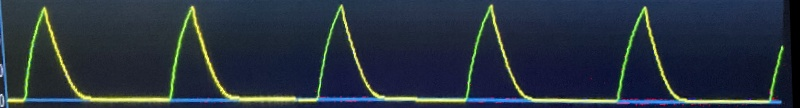normal_volume: (6, 0, 770, 108)
